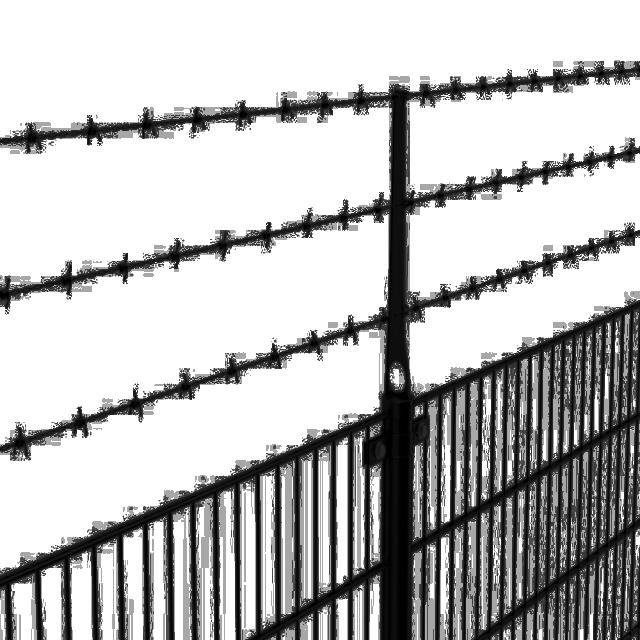fences: (29, 275, 640, 640)
